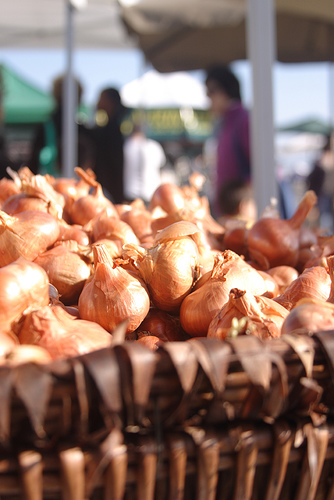onion: (0, 166, 332, 368)
